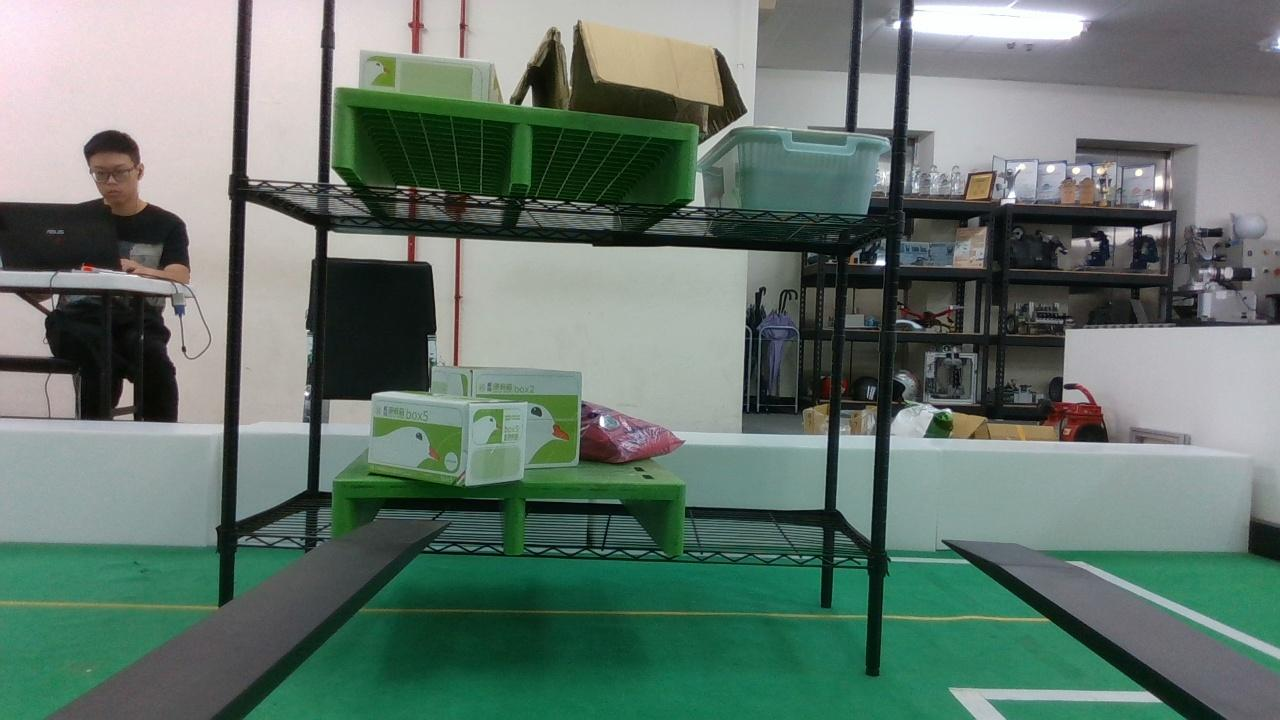Pallet: (331, 83, 706, 200), (331, 477, 691, 558)
